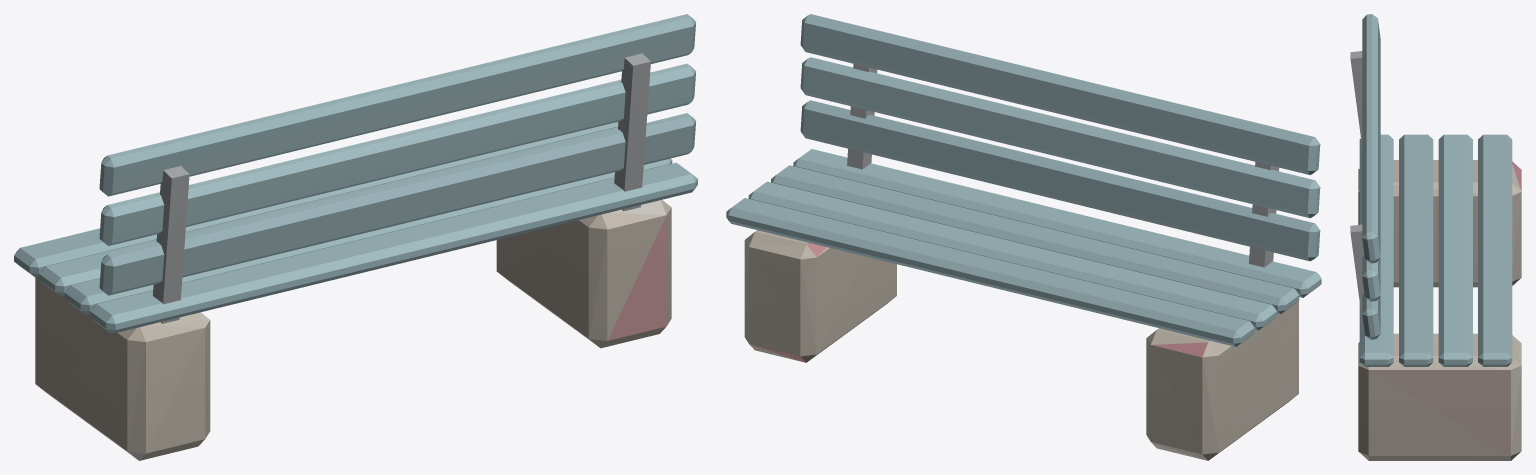
File: terrazzo_bench.glb
3 views of the same model, side by side, from view 1: azimuth 30°, elevation 25°; view 2: azimuth 150°, elevation 25°; view 3: azimuth 270°, elevation 25° (orthographic). The views are drawn at different scales.
Parts seen in each view (by area): view 1: terrazzo_bench; view 2: terrazzo_bench; view 3: terrazzo_bench.
Part boxes in pixels (box(x1,y1,x2,y2)): terrazzo_bench: box(14, 14, 697, 460); terrazzo_bench: box(726, 14, 1321, 460); terrazzo_bench: box(1350, 14, 1521, 460).
Bounding box in the file's own units: 2 × 1.01 × 0.6497.
